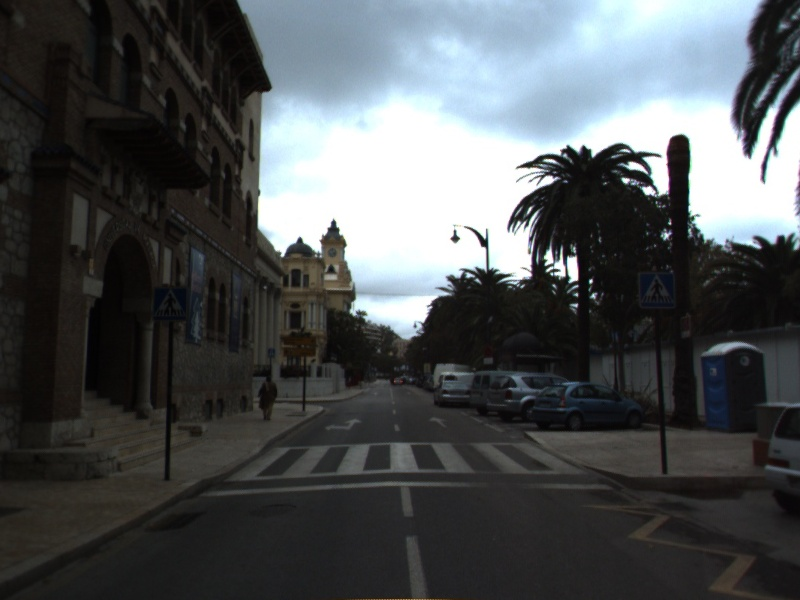STRAIGHT: (426, 414, 450, 430)
STRAIGHT_LEFT: (323, 416, 365, 433)
